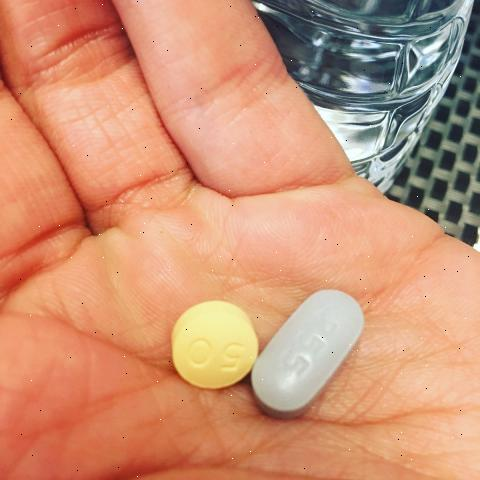Pill: (247, 237, 381, 434)
